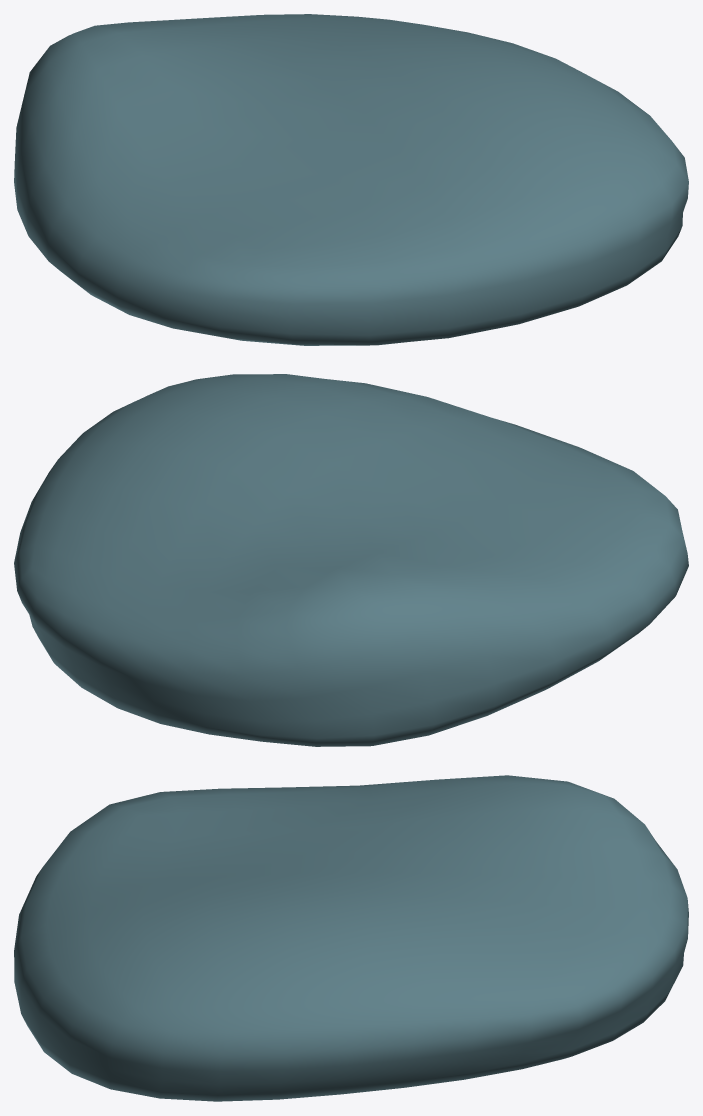
File: Rock_B_05.fbx
3 renders of one model, top to bottom at view 1: azimuth 30°, elevation 25°; view 2: azimuth 150°, elevation 25°; view 3: azimuth 270°, elevation 25°, orthographic. The views are drawn at different scales.
Visible parts, largest first — view 1: Rock_B_05_LOD0; view 2: Rock_B_05_LOD0; view 3: Rock_B_05_LOD0.
Part boxes in pixels (left/top/right/bottom): Rock_B_05_LOD0: left=14, top=14, right=688, bottom=345; Rock_B_05_LOD0: left=14, top=374, right=688, bottom=746; Rock_B_05_LOD0: left=14, top=775, right=688, bottom=1101.
Size of what is drawn, in the model's own units: 498 by 121 by 516.
